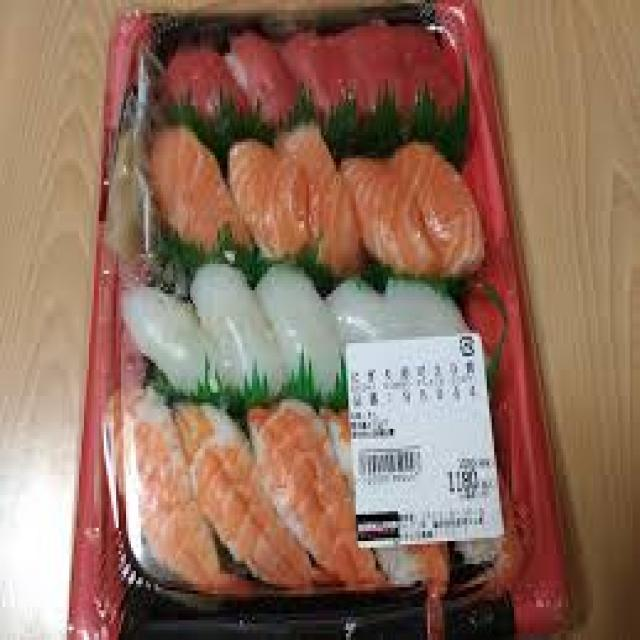sushi: (69, 0, 571, 637)
